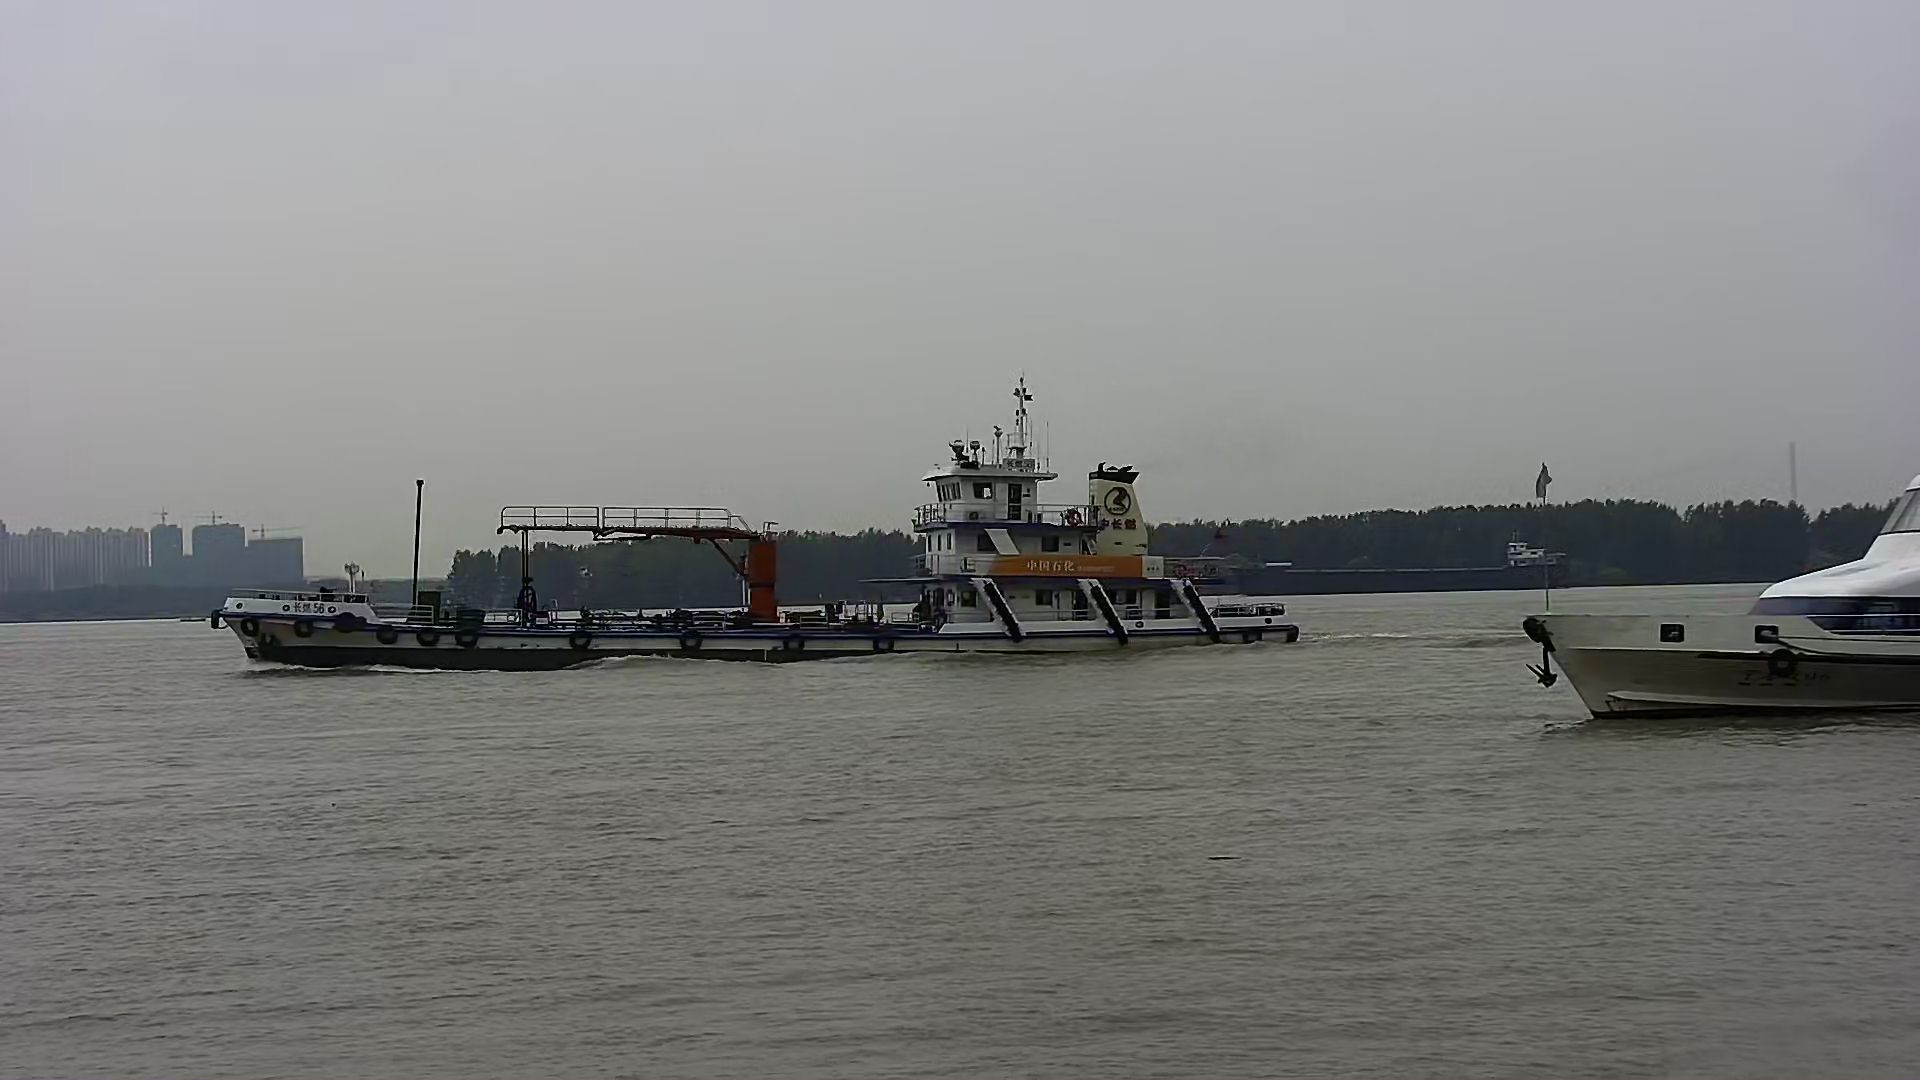ship: (215, 429, 1302, 670), (1516, 473, 1920, 720), (1185, 531, 1576, 596)
